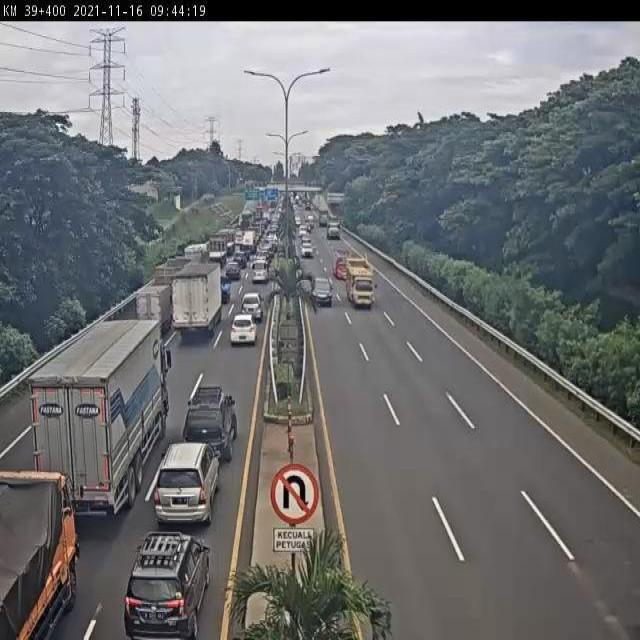car: (126, 524, 208, 629), (158, 436, 220, 511), (189, 380, 237, 452), (228, 313, 255, 348), (312, 275, 333, 308), (243, 291, 263, 319), (227, 260, 240, 279), (254, 260, 267, 279), (303, 242, 313, 254), (300, 223, 309, 235), (295, 217, 303, 227)
truck: (26, 315, 173, 532), (0, 469, 72, 640), (170, 262, 224, 346), (138, 279, 170, 325), (348, 264, 375, 307), (328, 219, 341, 241), (335, 255, 346, 277), (307, 212, 317, 228), (321, 214, 329, 230)
